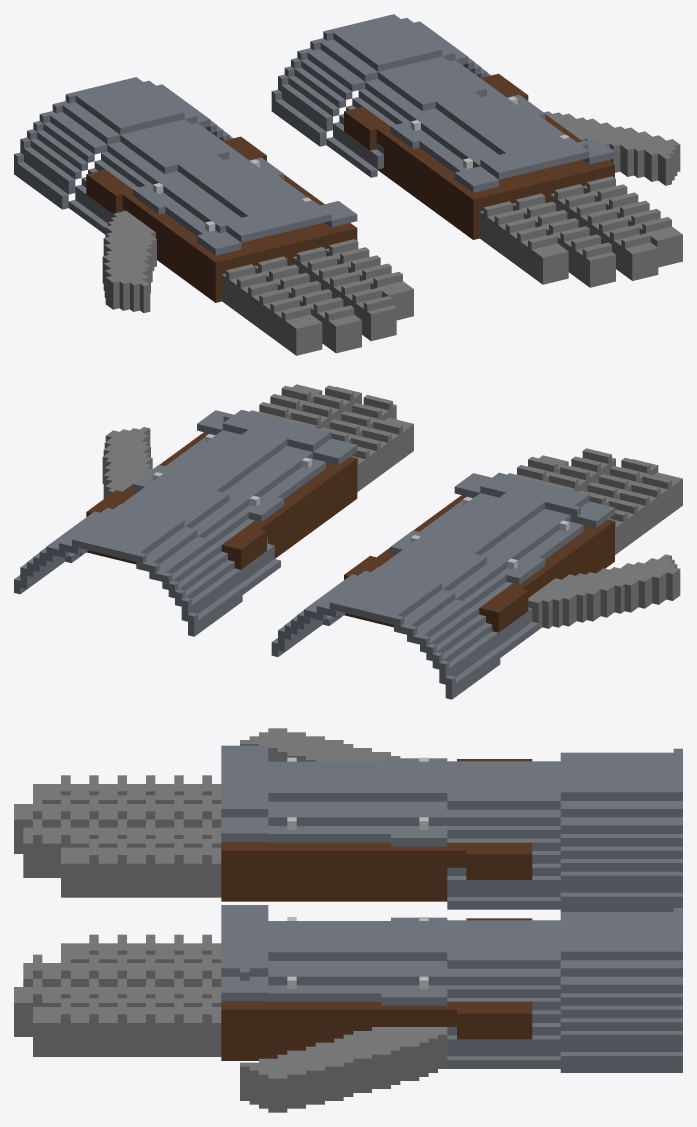
File: ch_demi_gaunt.glb
The picture shows the model from 3 angles, top to bottom: view 1: azimuth 30°, elevation 25°; view 2: azimuth 150°, elevation 25°; view 3: azimuth 270°, elevation 25°; orthographic projection. The views are drawn at different scales.
Visible parts, largest first — view 1: ch_demi_gaunt:compound; view 2: ch_demi_gaunt:compound; view 3: ch_demi_gaunt:compound.
Part boxes in pixels (x1=…): ch_demi_gaunt:compound: x1=14, y1=14, x2=682, y2=355; ch_demi_gaunt:compound: x1=14, y1=384, x2=682, y2=699; ch_demi_gaunt:compound: x1=14, y1=728, x2=682, y2=1112.
Bounding box in the file's own units: 0.352 × 0.04 × 0.284.
